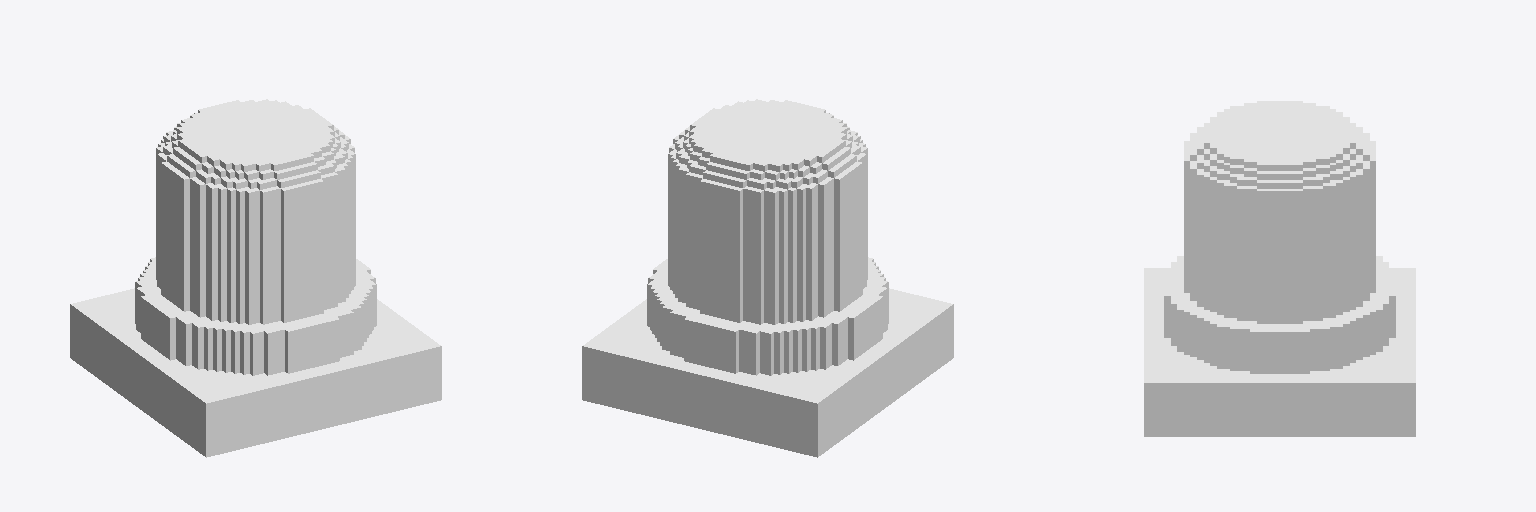
File: button_OFF.obj
The picture shows the model from 3 angles: view 1: azimuth 30°, elevation 25°; view 2: azimuth 150°, elevation 25°; view 3: azimuth 270°, elevation 25°; orthographic projection.
Parts seen in each view (by area): view 1: object 1; view 2: object 1; view 3: object 1.
Boxes of the visible parts, x1,y1,x2,y2 form: object 1: [70, 99, 441, 457]; object 1: [582, 99, 953, 457]; object 1: [1144, 101, 1415, 436].
Bounding box in the file's own units: 4.1 × 4.1 × 4.1.